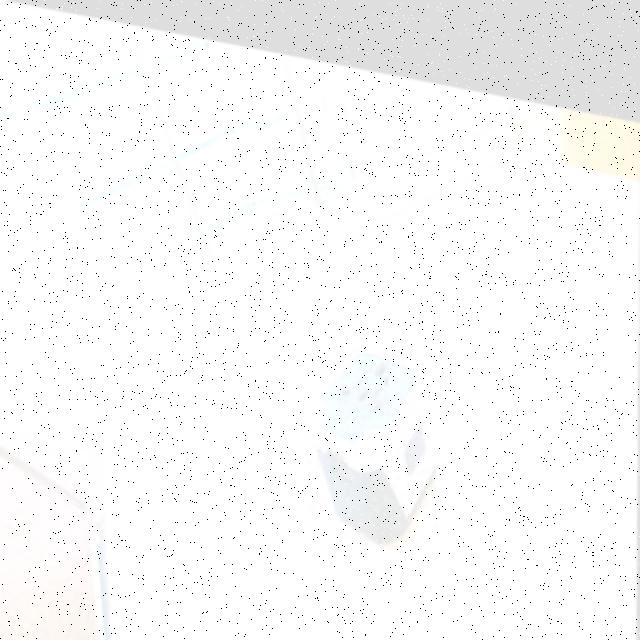adapter: (308, 325, 438, 537)
